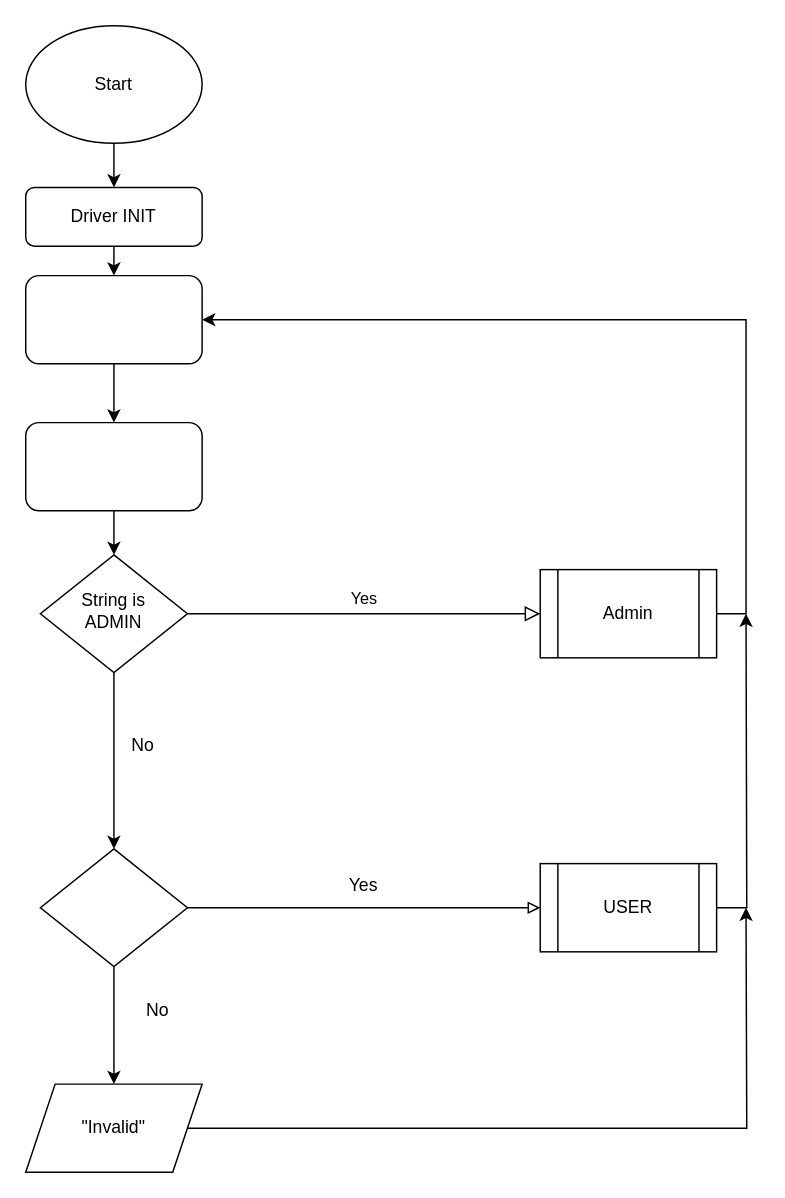
Image size: 785x1198. Some labels were removed from this diagram. Here are the shapes that lost their labels. From the top down, the centre of each, then its label:
At point (113, 319): "Get string".
At point (113, 466): "Compare string".
At point (113, 907): "String is USER".
